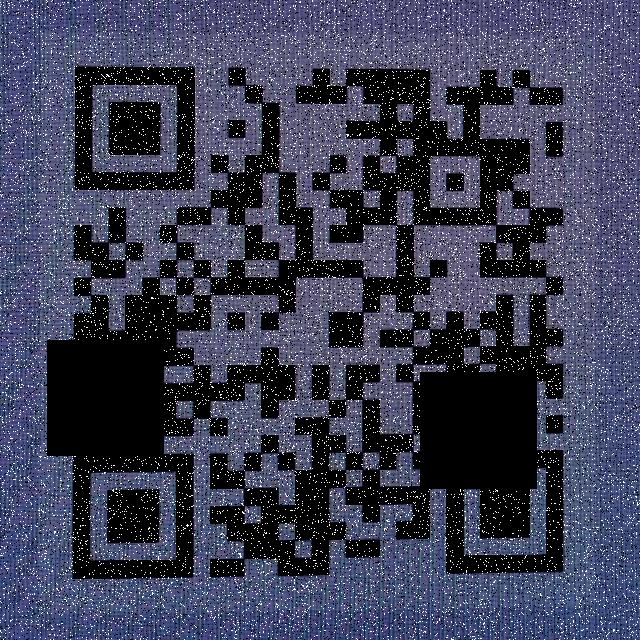QR_CODE: (46, 39, 594, 604)
